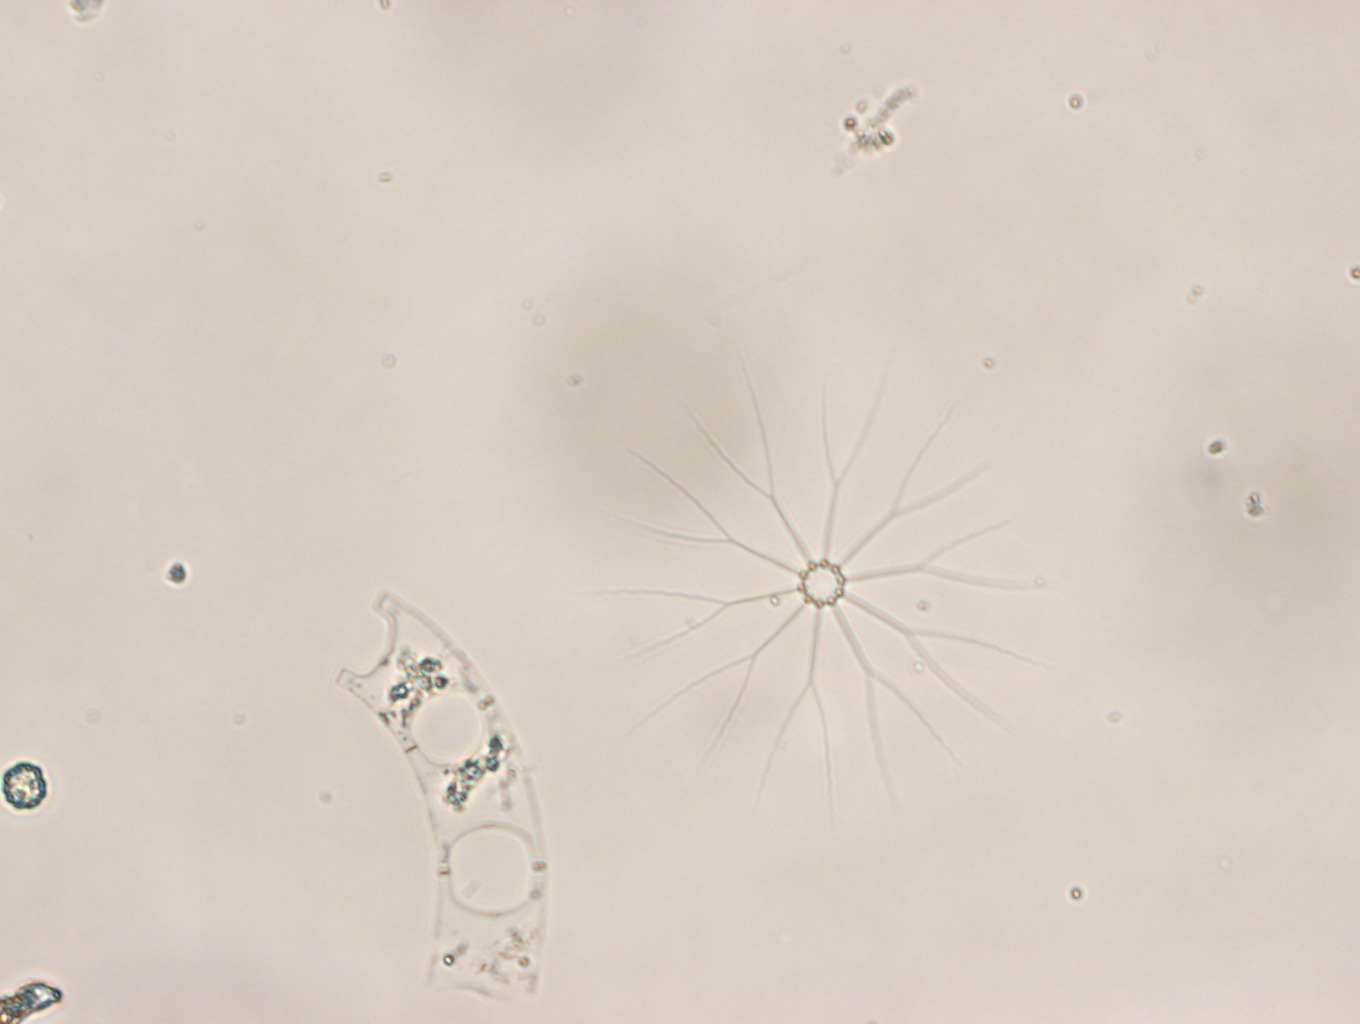bacteriastrum: (581, 343, 1062, 814)
eucampia: (338, 591, 546, 1010)
